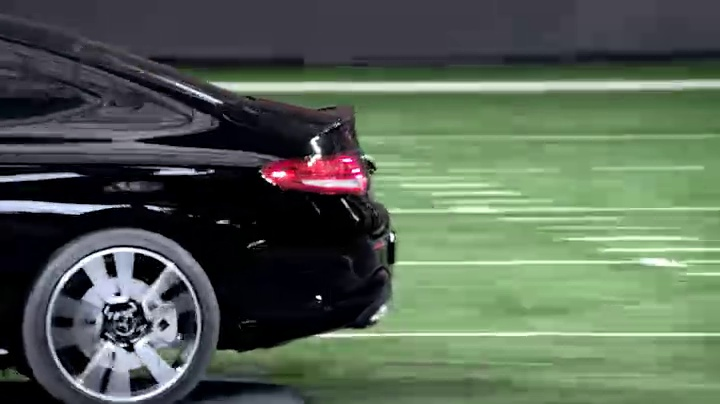amg: (1, 8, 396, 402)
